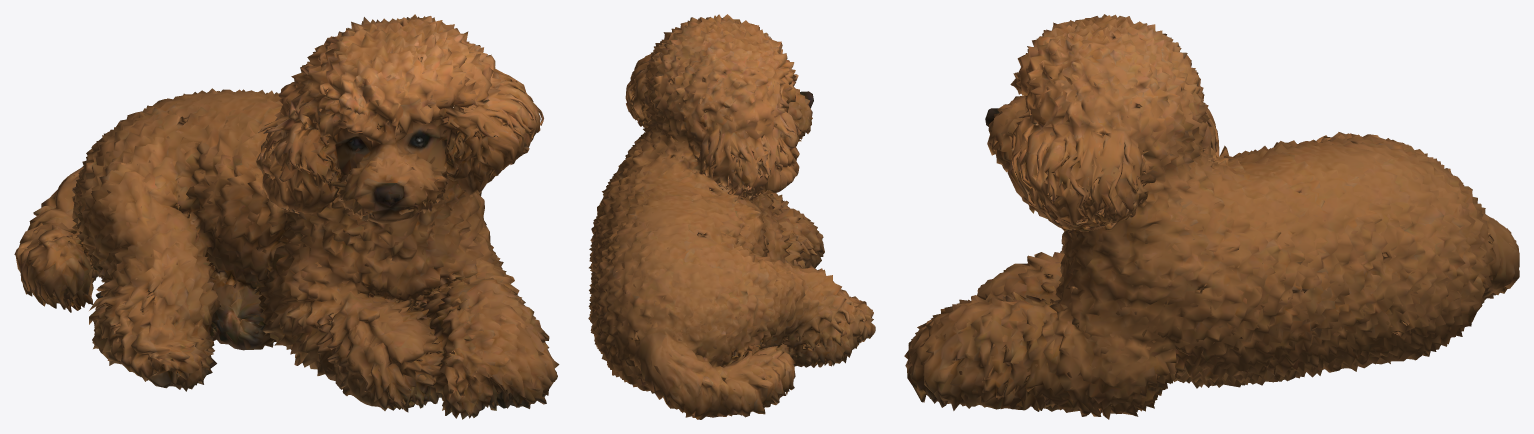
File: poodle-memorial.mobile.glb
3 renders of one model, left to right at view 1: azimuth 30°, elevation 25°; view 2: azimuth 150°, elevation 25°; view 3: azimuth 270°, elevation 25°, orthographic. The views are drawn at different scales.
Parts seen in each view (by area): view 1: Poodle in Bloom Memorial; view 2: Poodle in Bloom Memorial; view 3: Poodle in Bloom Memorial.
Part boxes in pixels (box(x1,y1,x2,y2)): Poodle in Bloom Memorial: box(14, 14, 559, 419); Poodle in Bloom Memorial: box(588, 14, 875, 419); Poodle in Bloom Memorial: box(904, 14, 1519, 419).
Bounding box in the file's own units: 1.35 × 1.18 × 1.9.
Materials: 1 (1 with a texture image).
